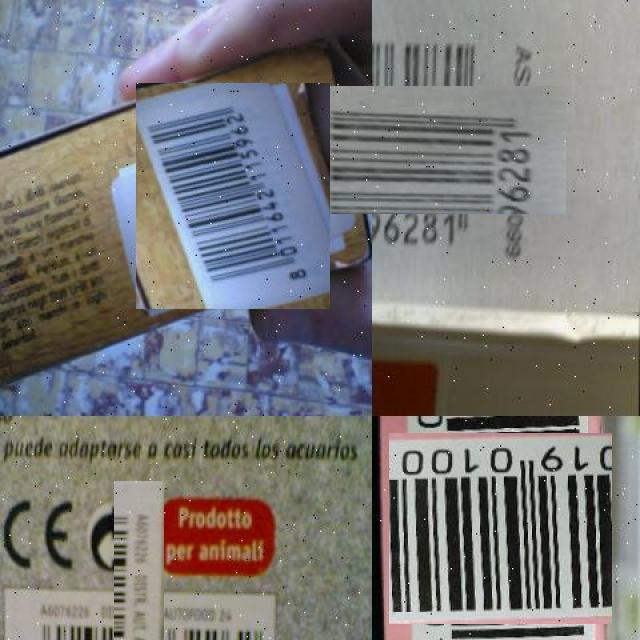Barcode: (127, 91, 338, 301), (397, 424, 604, 632), (339, 54, 534, 247), (60, 535, 220, 640)
